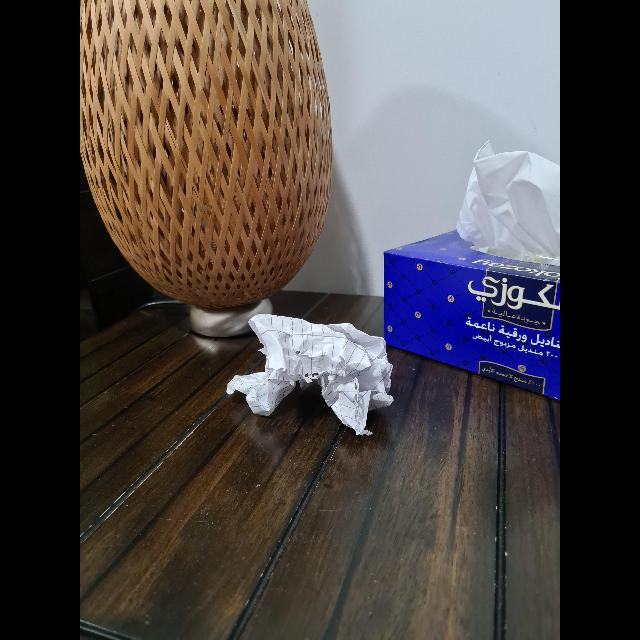scrap_paper: (225, 308, 398, 432)
